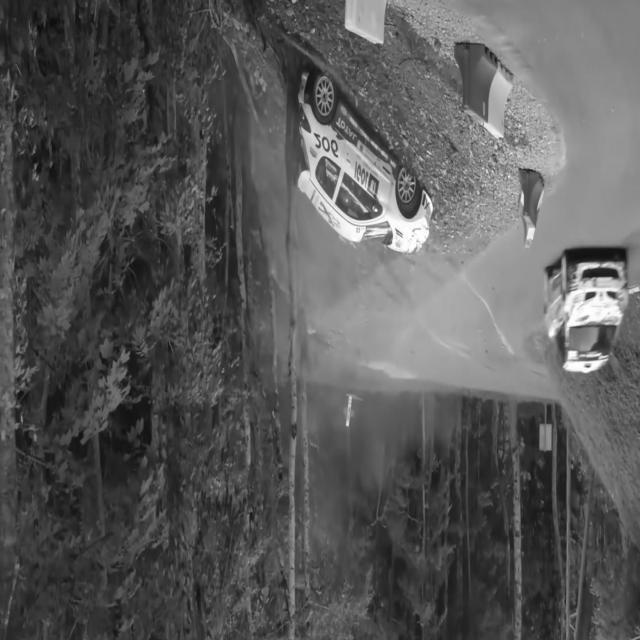moderate: (288, 64, 438, 276)
